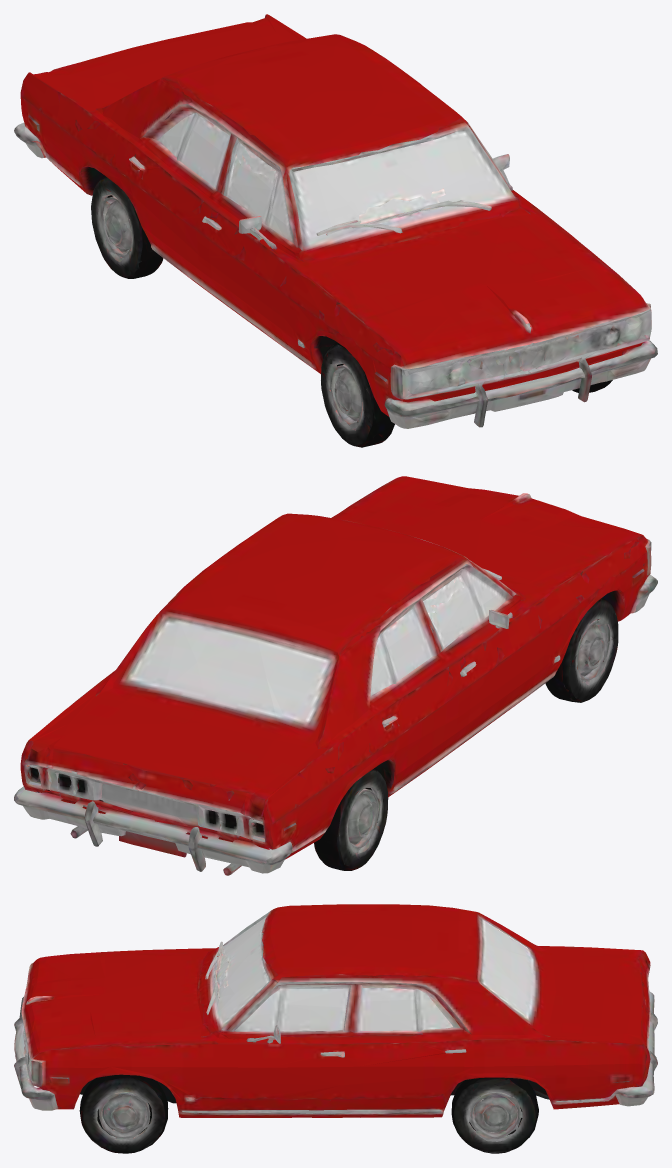
Rendered from traffic-sedan.glb.
3 views of the same model, one above another, from view 1: azimuth 30°, elevation 25°; view 2: azimuth 150°, elevation 25°; view 3: azimuth 270°, elevation 25° (orthographic). The views are drawn at different scales.
Visible parts, largest first — view 1: geometry_0; view 2: geometry_0; view 3: geometry_0.
Part boxes in pixels (<box>): geometry_0: <box>14,14,657,447</box>; geometry_0: <box>14,476,657,875</box>; geometry_0: <box>14,904,657,1153</box>.
Bounding box in the file's own units: 0.3916 × 0.2949 × 1.
Materials: 1 (1 with a texture image).
